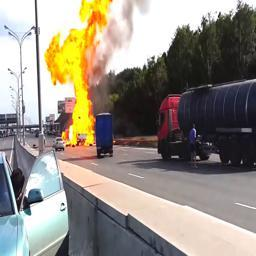fire: (45, 0, 109, 148)
